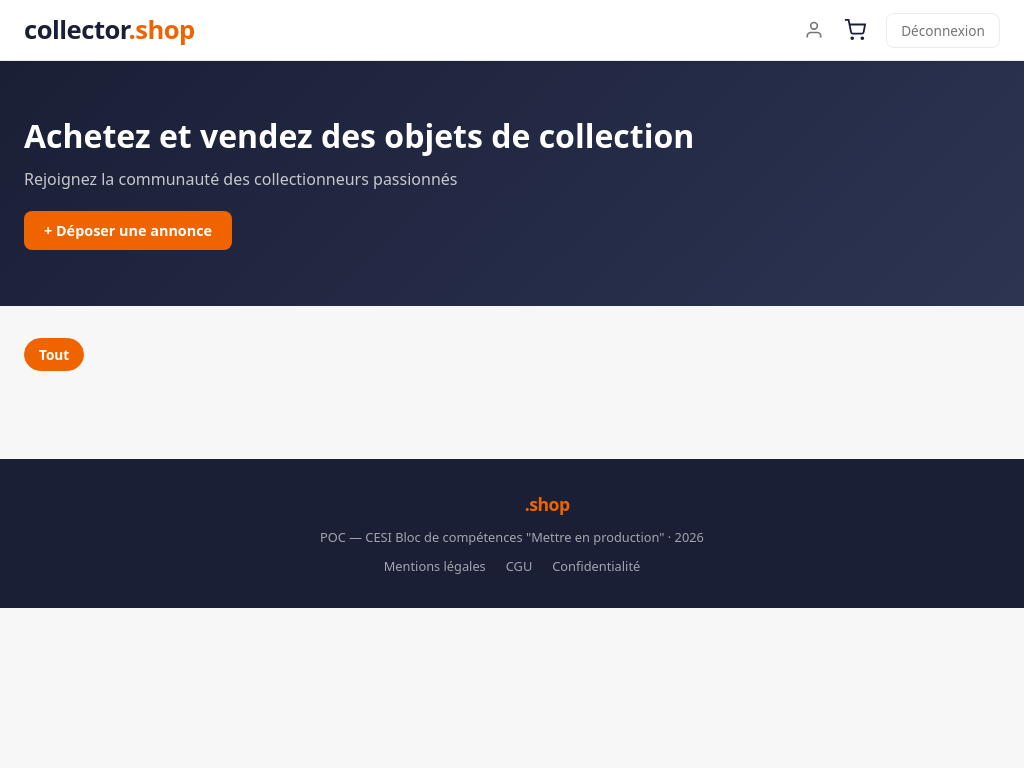
Test case: Collector.shop - Tests d'Intégration Globaux (App.js) › Scénario 3 : Déconnexion de l'utilisateur
The width and height of the screenshot is (1024, 768).
Click the button "Déconnexion".
click(943, 30)  # box [886,12,1000,48]
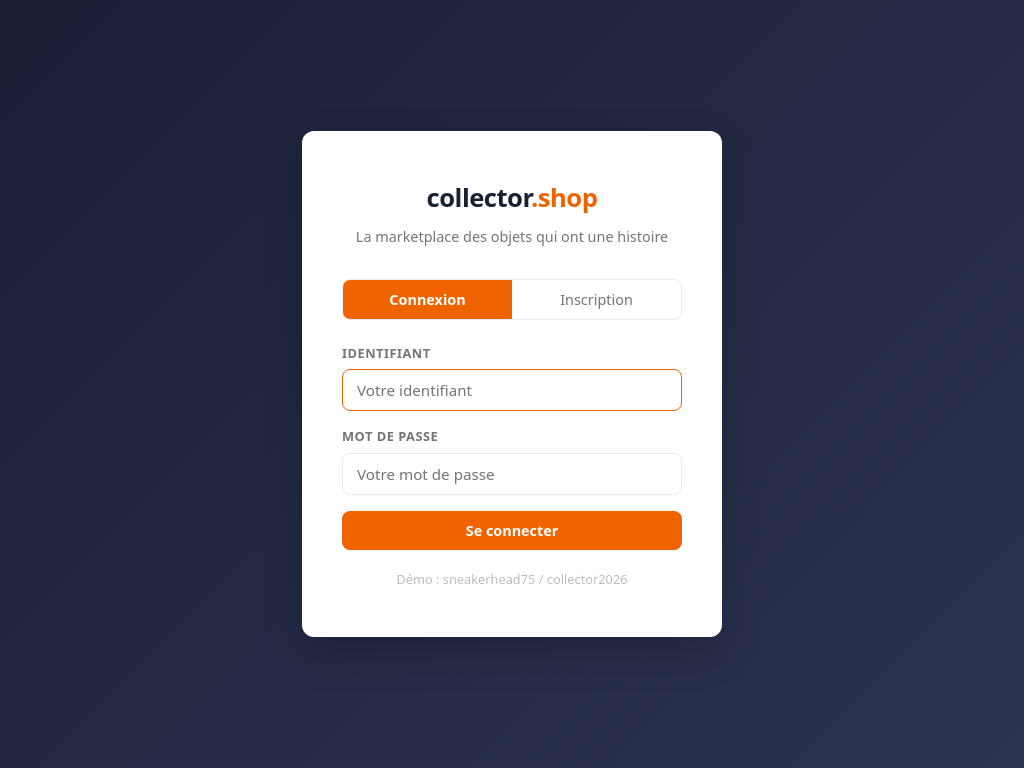
Now the field with placeholder "Votre identifiant" is shown, box [342,369,682,411]
